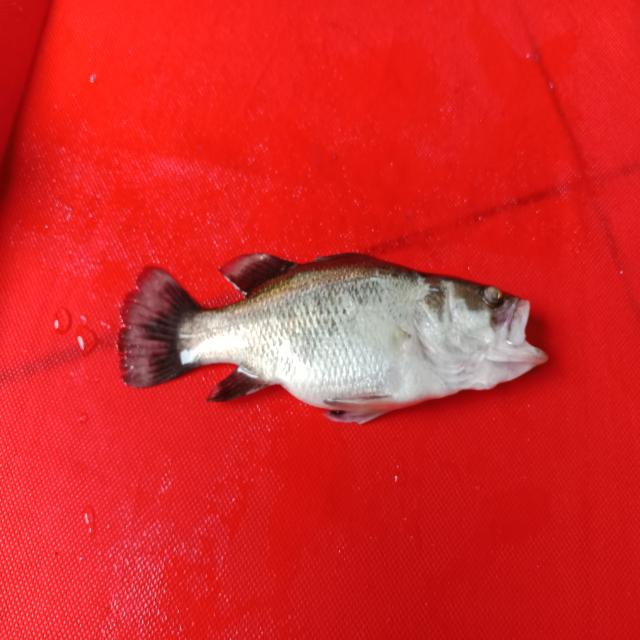ikan: (105, 218, 562, 444)
